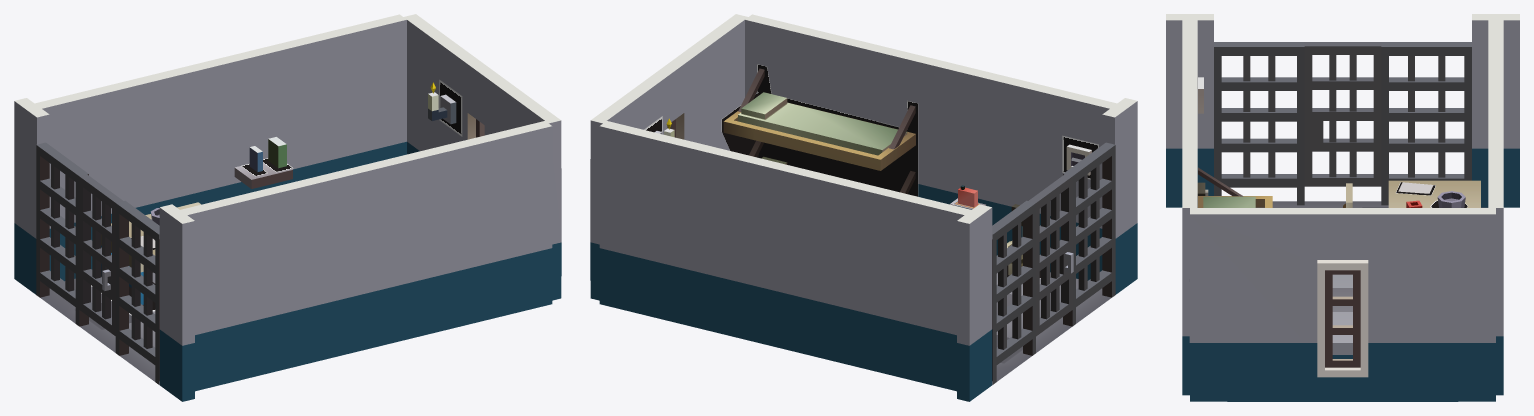
Rendered from prison cell.fbx.
3 renders of one model, left to right at view 1: azimuth 30°, elevation 25°; view 2: azimuth 150°, elevation 25°; view 3: azimuth 270°, elevation 25°, orthographic. The views are drawn at different scales.
Parts seen in each view (by area): view 1: cell, door.001; view 2: cell, door.001; view 3: cell, door.001.
Part boxes in pixels (x1=…): cell: x1=14, y1=14, x2=561, y2=401; door.001: x1=79, y1=174, x2=122, y2=335; cell: x1=590, y1=14, x2=1137, y2=401; door.001: x1=1029, y1=174, x2=1073, y2=336; cell: x1=1166, y1=14, x2=1519, y2=401; door.001: x1=1304, y1=42, x2=1381, y2=186.
Bounding box in the file's own units: 645 × 463 × 270.
Materials: 2 (2 with a texture image).
